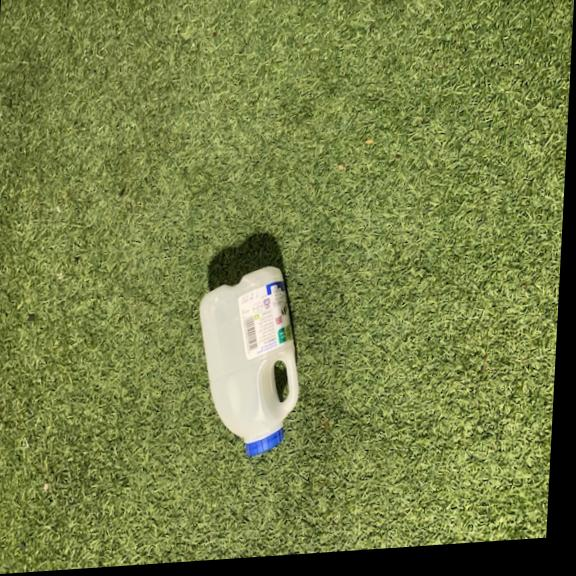Plastik: (189, 247, 304, 466)
